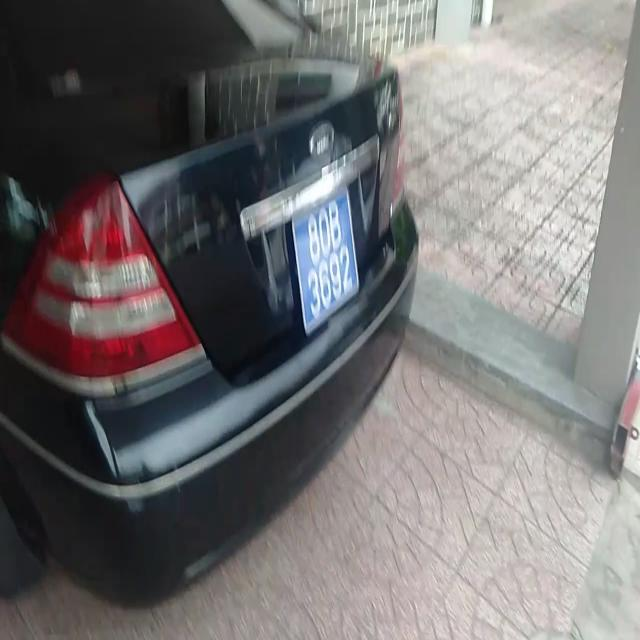bien_xanh: (292, 187, 358, 333)
